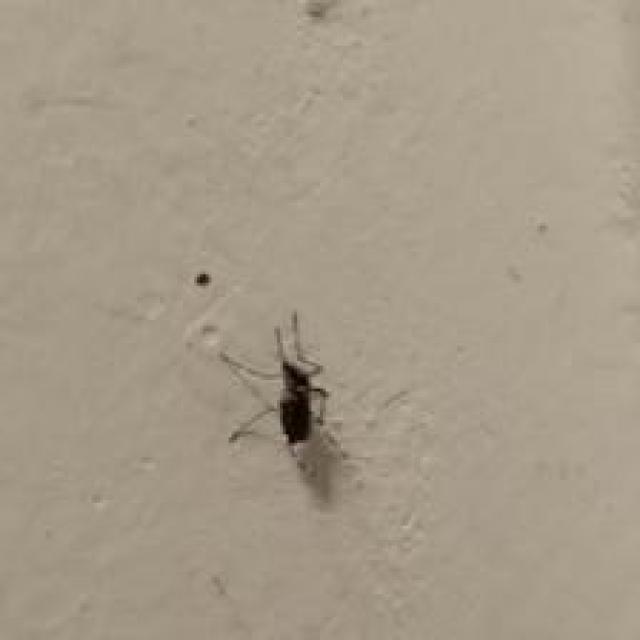Aedes albopictus: (217, 309, 349, 480)
